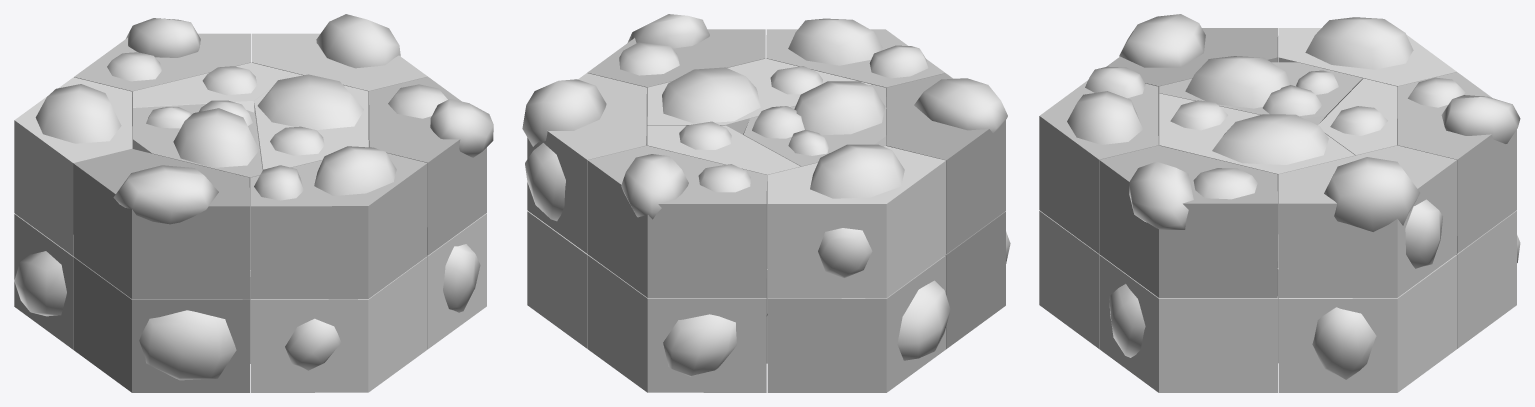
The model's file is 5_Dest_Hex_20.fbx.
3 views of the same model, side by side, from view 1: azimuth 30°, elevation 25°; view 2: azimuth 150°, elevation 25°; view 3: azimuth 270°, elevation 25° (orthographic).
Parts seen in each view (by area): view 1: Hex1.001_cell.051, Hex1.001_cell.053, Hex1.001_cell.050, Hex1.001_cell.052, Hex1.001_cell.061, Hex1.001_cell.055, Hex1.001_cell.012_cell.013, Hex1.001_cell.059, Hex1.001_cell.057, Hex1.001_cell.012_cell.014, Hex1.001_cell.060, Hex1.001_cell.054 (+1 smaller); view 2: Hex1.001_cell.055, Hex1.001_cell.057, Hex1.001_cell.056, Hex1.001_cell.054, Hex1.001_cell.059, Hex1.001_cell.053, Hex1.001_cell.012_cell.013, Hex1.001_cell.012_cell.014, Hex1.001_cell.051, Hex1.001_cell.061, Hex1.001_cell.058, Hex1.001_cell.052 (+1 smaller); view 3: Hex1.001_cell.059, Hex1.001_cell.061, Hex1.001_cell.058, Hex1.001_cell.060, Hex1.001_cell.051, Hex1.001_cell.057, Hex1.001_cell.012_cell.013, Hex1.001_cell.012_cell.014, Hex1.001_cell.055, Hex1.001_cell.053, Hex1.001_cell.050, Hex1.001_cell.056 (+1 smaller).
Boxes of the visible parts, x1,y1,x2,y2 form: Hex1.001_cell.051: [250, 146, 427, 299]; Hex1.001_cell.053: [73, 149, 249, 299]; Hex1.001_cell.050: [250, 256, 427, 392]; Hex1.001_cell.052: [73, 257, 249, 392]; Hex1.001_cell.061: [369, 77, 493, 255]; Hex1.001_cell.055: [14, 77, 132, 255]; Hex1.001_cell.012_cell.013: [254, 72, 368, 170]; Hex1.001_cell.059: [251, 14, 427, 146]; Hex1.001_cell.057: [74, 18, 250, 148]; Hex1.001_cell.012_cell.014: [133, 100, 262, 270]; Hex1.001_cell.060: [427, 213, 486, 348]; Hex1.001_cell.054: [14, 214, 73, 349]; Hex1.001_cell.055: [767, 144, 945, 298]; Hex1.001_cell.057: [587, 145, 766, 297]; Hex1.001_cell.056: [587, 255, 766, 392]; Hex1.001_cell.054: [767, 255, 950, 392]; Hex1.001_cell.059: [522, 73, 646, 253]; Hex1.001_cell.053: [886, 73, 1007, 254]; Hex1.001_cell.012_cell.013: [647, 58, 871, 134]; Hex1.001_cell.012_cell.014: [743, 81, 886, 166]; Hex1.001_cell.051: [766, 18, 945, 143]; Hex1.001_cell.061: [587, 14, 765, 145]; Hex1.001_cell.058: [527, 211, 587, 348]; Hex1.001_cell.052: [945, 211, 1010, 349]; Hex1.001_cell.059: [1278, 145, 1456, 297]; Hex1.001_cell.061: [1099, 145, 1277, 297]; Hex1.001_cell.058: [1278, 255, 1456, 392]; Hex1.001_cell.060: [1099, 255, 1277, 392]; Hex1.001_cell.051: [1039, 66, 1158, 253]; Hex1.001_cell.057: [1398, 72, 1520, 253]; Hex1.001_cell.012_cell.013: [1159, 93, 1354, 268]; Hex1.001_cell.012_cell.014: [1159, 56, 1362, 125]; Hex1.001_cell.055: [1278, 17, 1456, 145]; Hex1.001_cell.053: [1106, 14, 1277, 145]; Hex1.001_cell.050: [1039, 211, 1099, 348]; Hex1.001_cell.056: [1456, 210, 1520, 348].
Bounding box in the file's own units: 1.12 × 0.5869 × 1.16.
